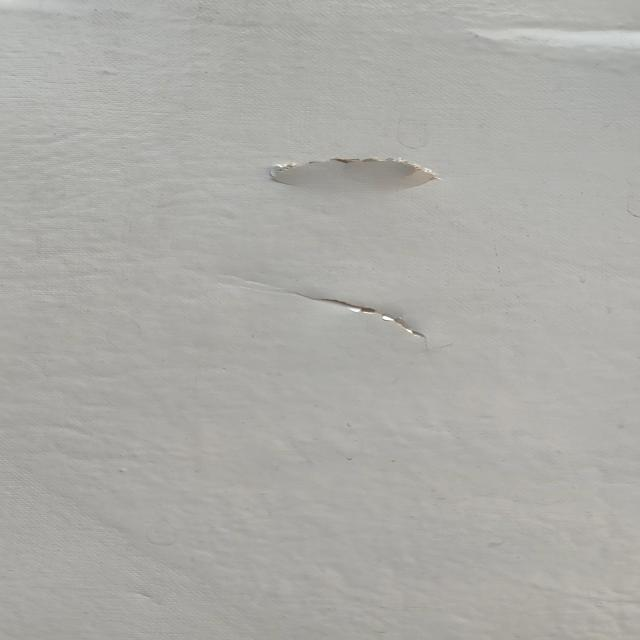Dents or Deformation: (473, 9, 640, 73)
Scratches: (234, 257, 500, 351), (244, 141, 519, 206)
